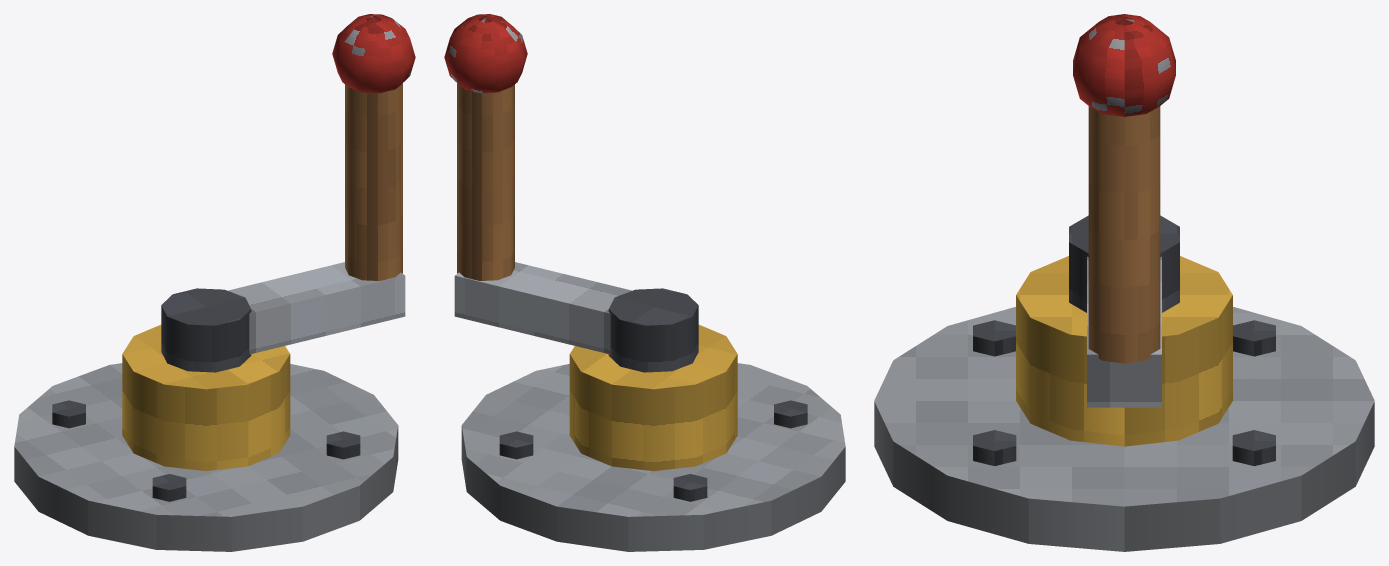
File: hand_crank.obj
3 renders of one model, left to right at view 1: azimuth 30°, elevation 25°; view 2: azimuth 150°, elevation 25°; view 3: azimuth 270°, elevation 25°, orthographic. The views are drawn at different scales.
Bounding box in the file's own units: 0.9433 × 1 × 0.8511.
